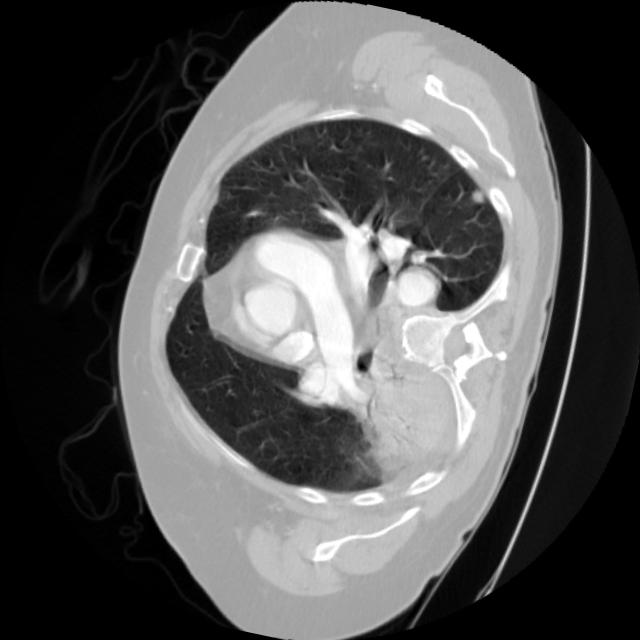nodule: (457, 179, 493, 215)
